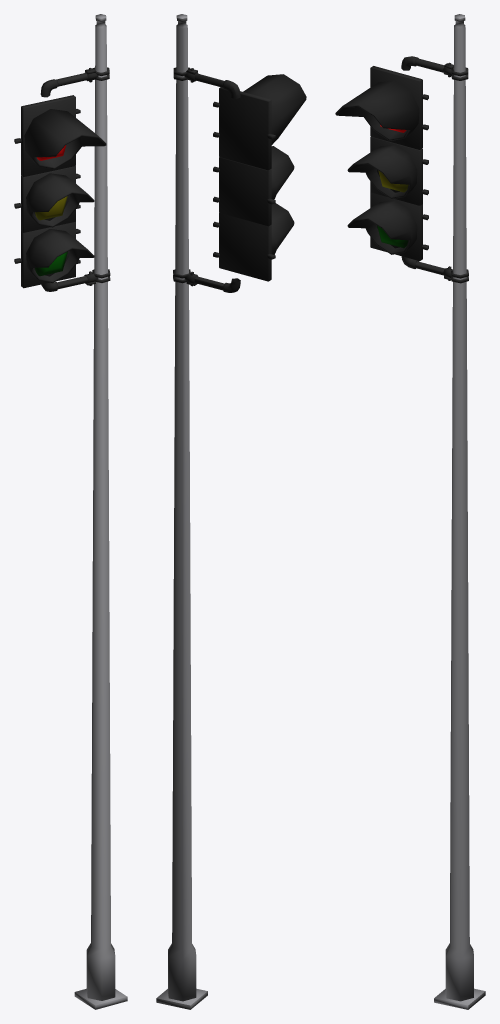
File: furnishings-outdoor-trafficlight_v1.glb
The picture shows the model from 3 angles, left to right: view 1: azimuth 30°, elevation 25°; view 2: azimuth 150°, elevation 25°; view 3: azimuth 330°, elevation 25°; orthographic projection.
Visible parts, largest first — view 1: TrafficLight_v1_base; view 2: TrafficLight_v1_base; view 3: TrafficLight_v1_base.
Boxes of the visible parts, left/top/right/bottom form: TrafficLight_v1_base: left=14, top=14, right=127, bottom=1009; TrafficLight_v1_base: left=156, top=14, right=306, bottom=1009; TrafficLight_v1_base: left=335, top=14, right=485, bottom=1009.
Size of the model in its own units: 0.7164 by 6.28 by 0.5988.
